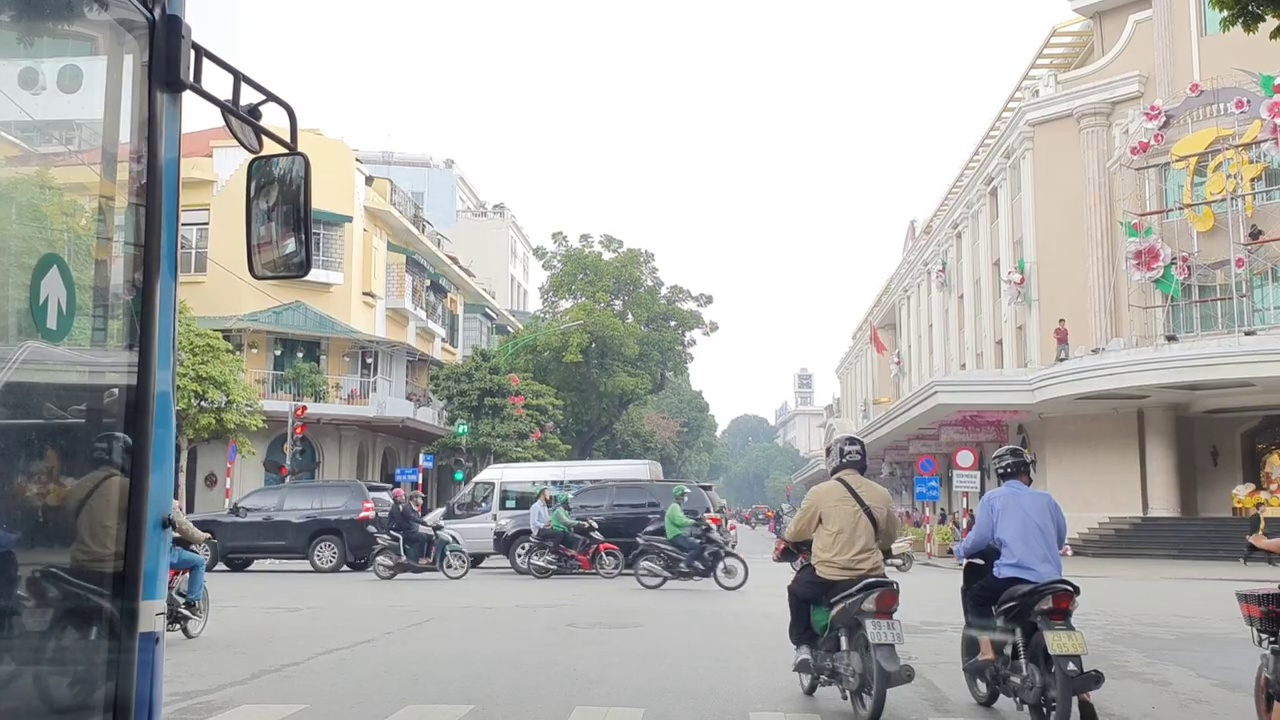vehicle-plate: (865, 613, 908, 648)
